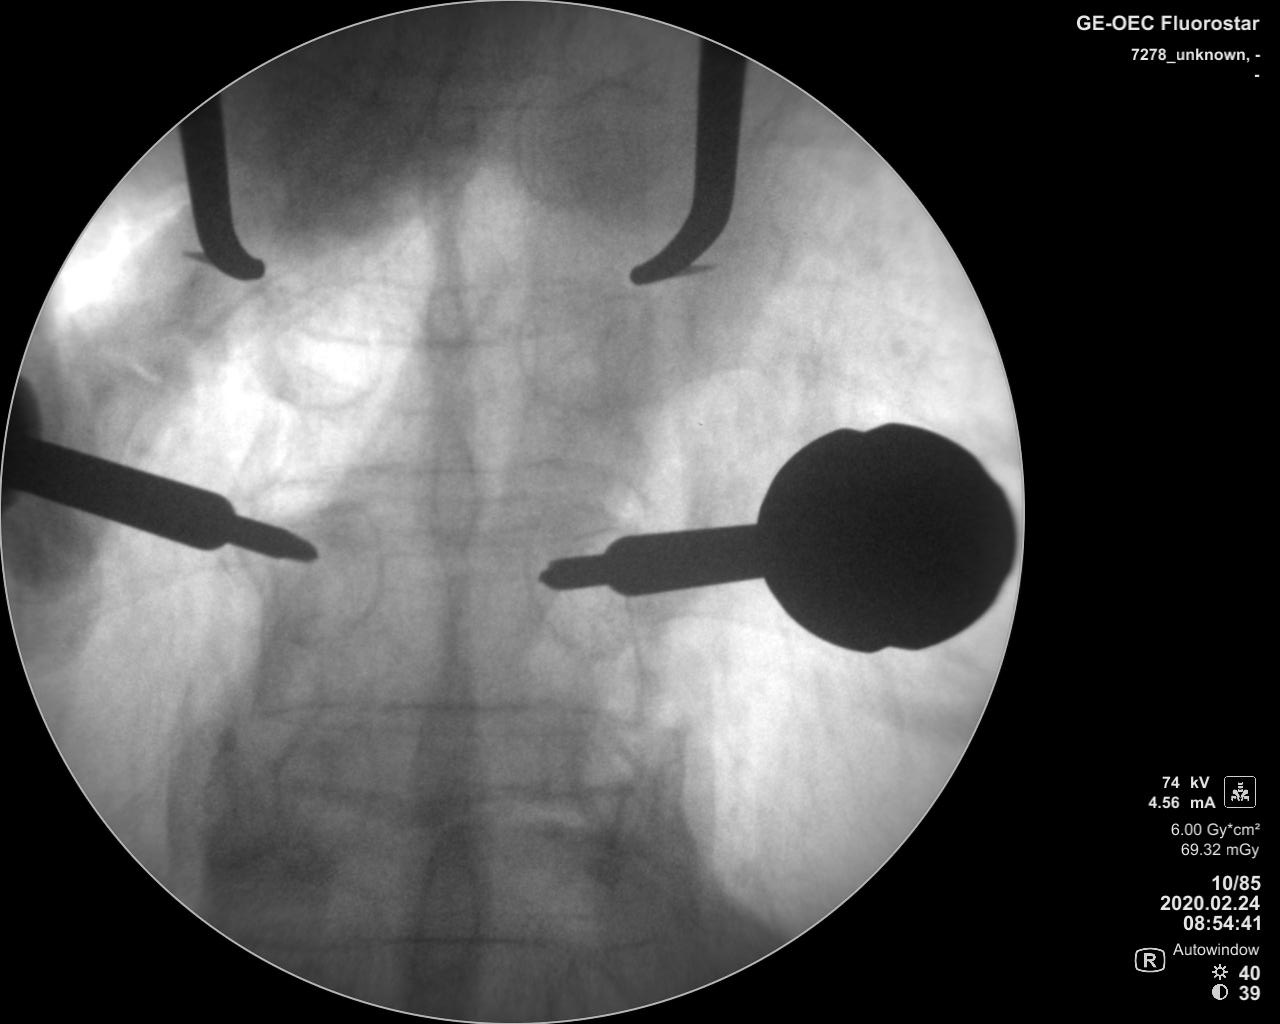eyes: (272, 503, 385, 647), (522, 280, 628, 421), (273, 284, 379, 416)
line: (266, 269, 622, 354), (233, 693, 654, 744), (248, 451, 641, 493)
nose: (419, 611, 492, 818), (413, 825, 485, 985), (419, 217, 478, 358), (425, 422, 483, 562)
